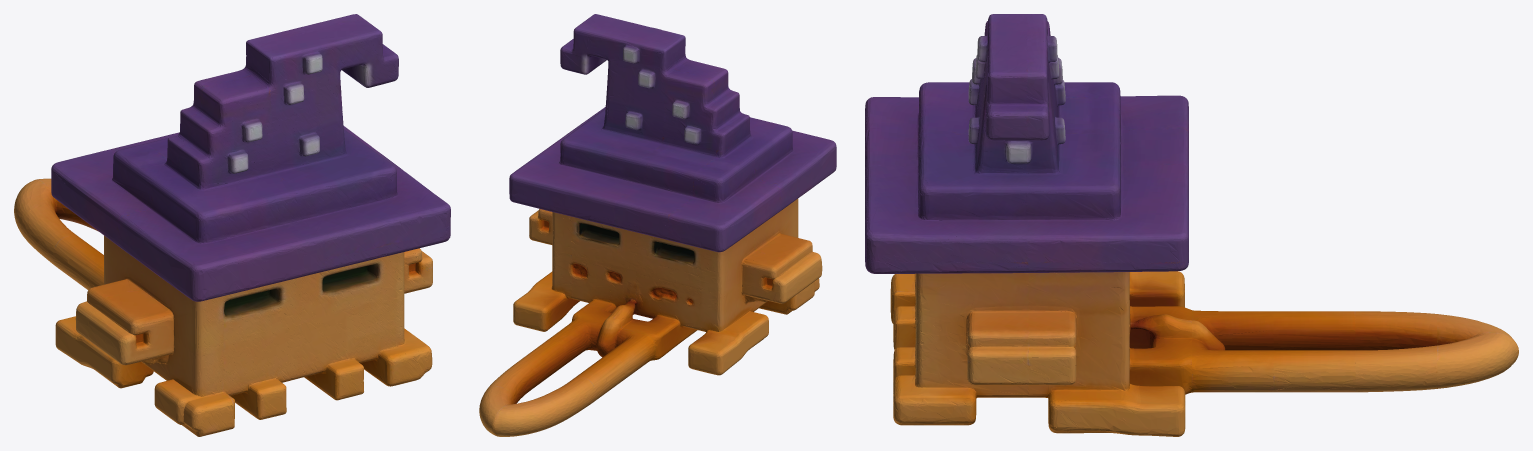
Rendered from clawd1.glb.
The picture shows the model from 3 angles, left to right: view 1: azimuth 30°, elevation 25°; view 2: azimuth 150°, elevation 25°; view 3: azimuth 270°, elevation 25°; orthographic projection. The views are drawn at different scales.
Parts seen in each view (by area): view 1: geometry_0; view 2: geometry_0; view 3: geometry_0.
Part boxes in pixels (x1,y1,x2,y2): geometry_0: (14, 14, 450, 436); geometry_0: (479, 14, 836, 436); geometry_0: (865, 14, 1518, 436).
Size of the model in its own units: 0.6169 by 0.6073 by 1.
1 material, 1 textured.
